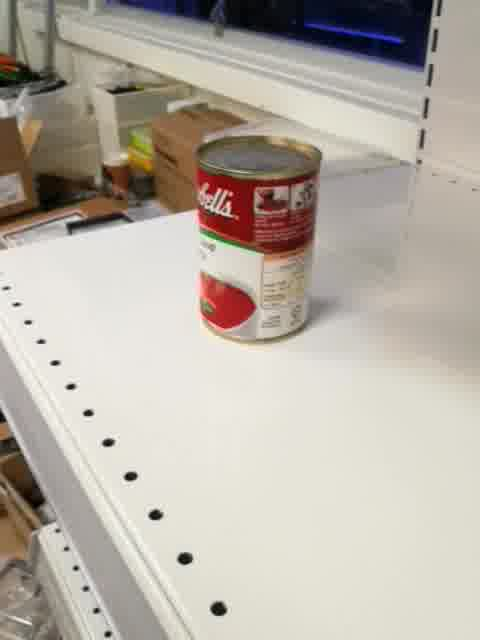tomatosoup: (191, 134, 323, 346)
